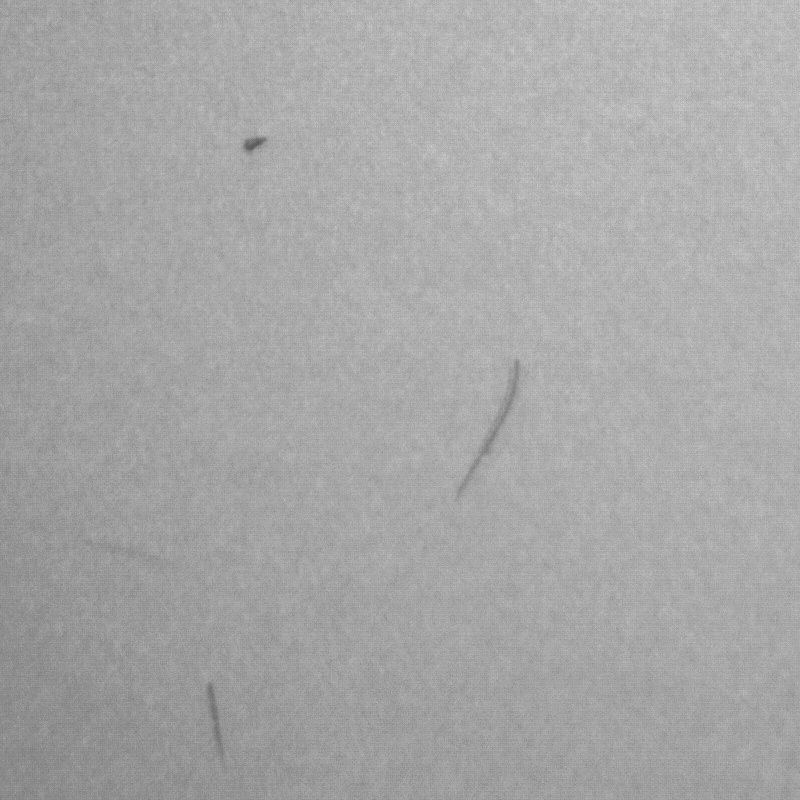defect: (440, 356, 529, 504), (198, 678, 246, 776), (238, 128, 273, 157)
